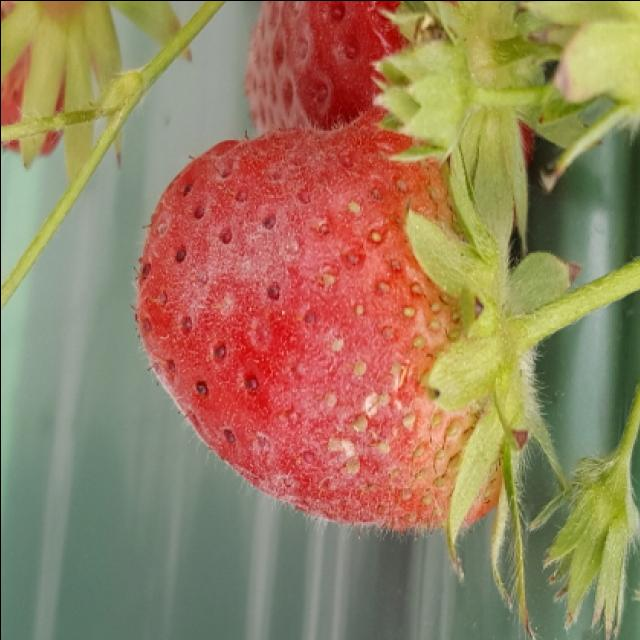Powdery Mildew Fruit: (135, 97, 527, 530)
